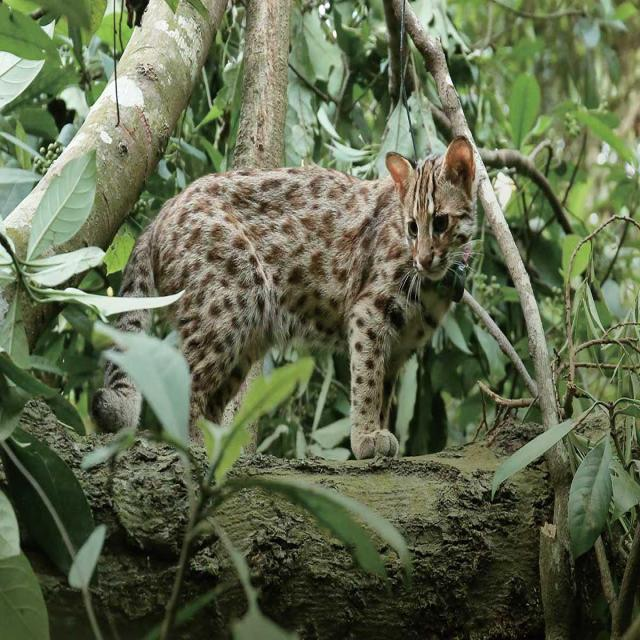leopard: (158, 102, 564, 446)
